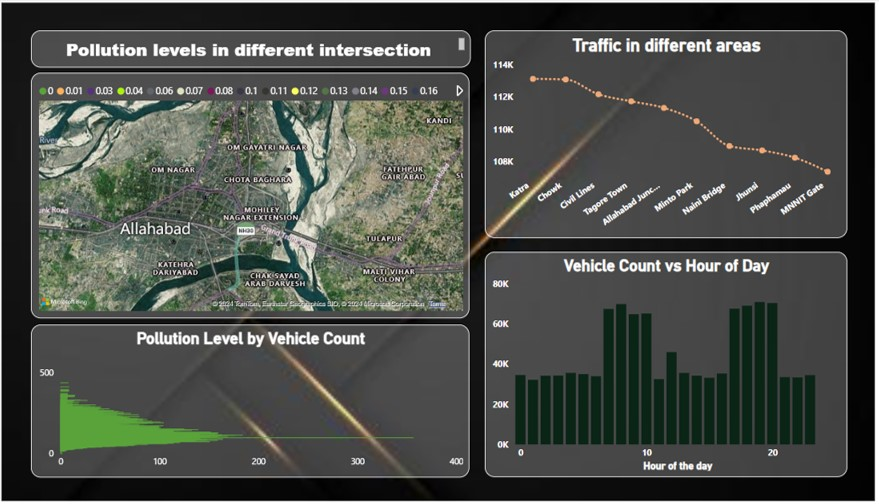

The dashboard page shown, as its layout file describes it:
{"tool":"powerbi","page":{"name":"Page 2","canvas":[1280,720],"ordinal":0},"visuals":[{"type":"image","box":[0,0,1270.3,720],"z":0},{"type":"clusteredColumnChart","title":"Vehicle Count vs Hour of Day","fields":{"Category":["transformed_data.Hour of the day"],"Y":["Sum(transformed_data.vehicle_count)"]},"box":[701.4,360,515.7,321.4],"z":1000},{"type":"lineChart","title":"Traffic in different areas","fields":{"Category":["transformed_data.intersection_name"],"Y":["Sum(transformed_data.vehicle_count)"]},"box":[701.4,44.3,515.7,295.7],"z":2000},{"type":"map","fields":{"Category":["transformed_data.intersection_name"],"Series":["transformed_data.pollution_level"],"Y":["Avg(transformed_data.latitude)"],"X":["Avg(transformed_data.longitude)"]},"box":[55.8,104.8,624.3,349.7],"z":3000},{"type":"textbox","box":[55.7,44.3,625.7,52.9],"z":4000},{"type":"barChart","title":" Pollution Level by Vehicle Count","fields":{"Category":["transformed_data.vehicle_count"],"Y":["Sum(transformed_data.pollution_level)"]},"box":[55.8,463.7,624.3,217.6],"z":4001}]}

Visuals, with their boxes in screenshot pixels (x1, y1, x2, y2), scaled from the page's 1280x720 canvas onto the 879x504 screenshot:
image: rect(0, 0, 872, 503)
"Vehicle Count vs Hour of Day" clusteredColumnChart: rect(482, 252, 836, 477)
"Traffic in different areas" lineChart: rect(482, 31, 836, 238)
map - transformed_data.intersection_name x transformed_data.pollution_level: rect(38, 73, 467, 318)
textbox: rect(38, 31, 468, 68)
" Pollution Level by Vehicle Count" barChart: rect(38, 325, 467, 477)
